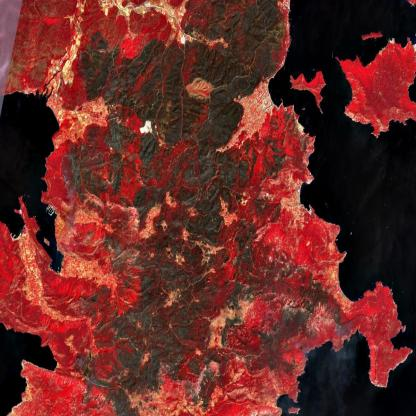fire: (60, 153, 84, 200), (324, 314, 360, 344)
